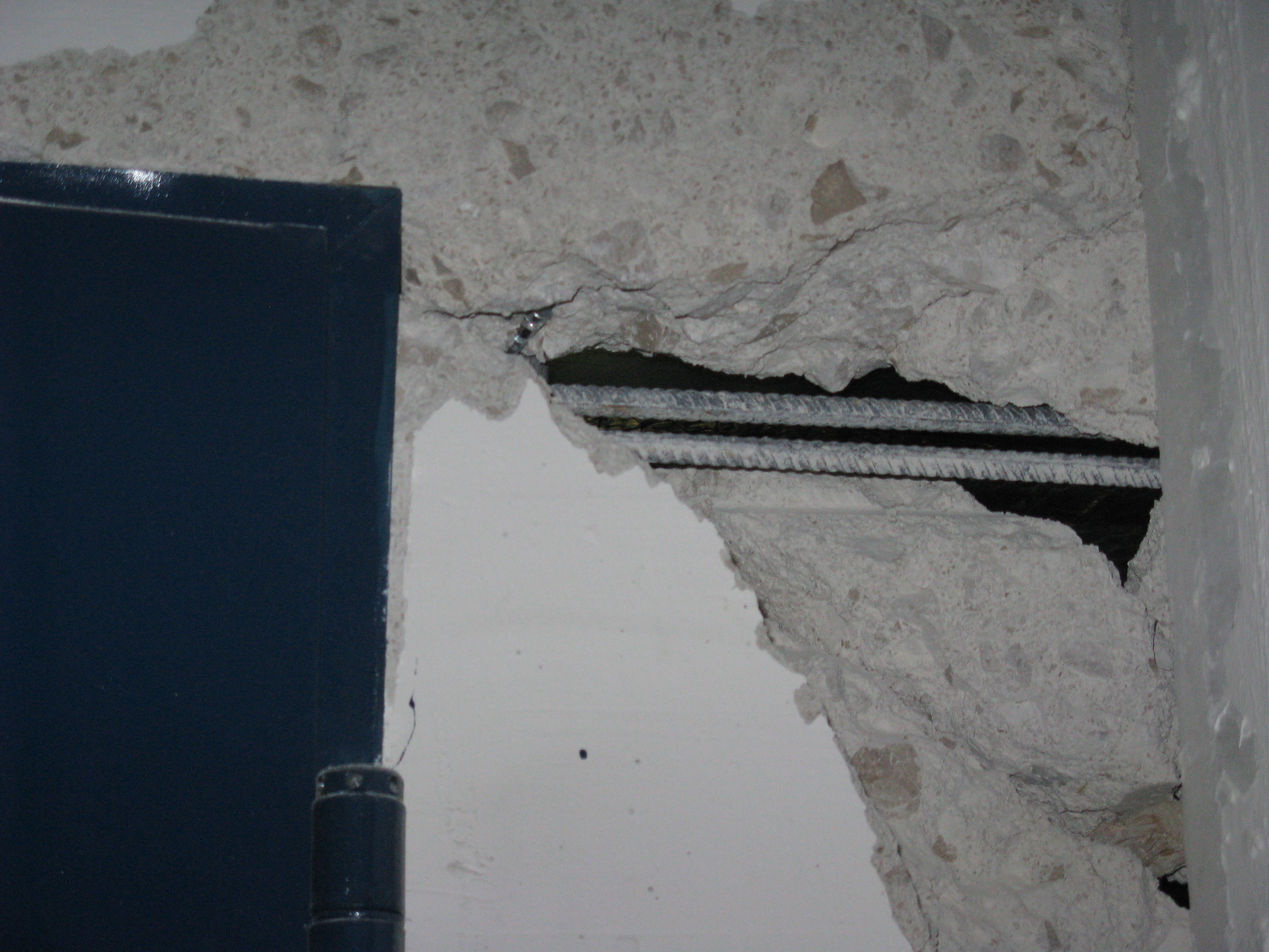Spalling: (411, 127, 1189, 923)
